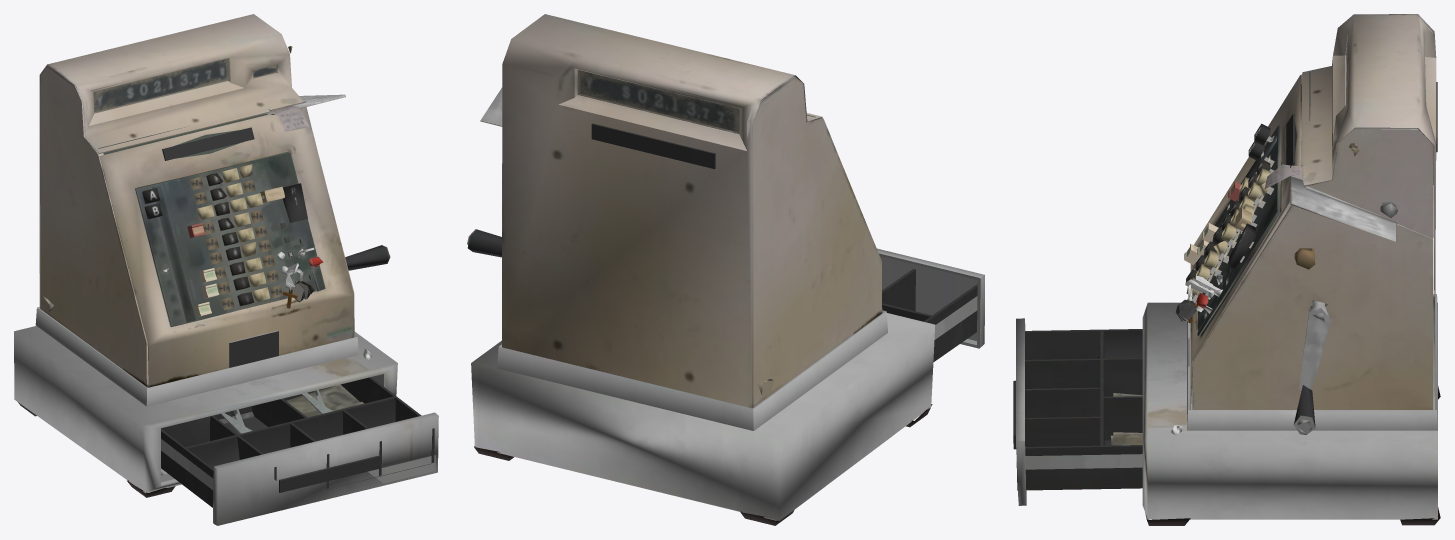
Rendered from cashregister_01.glb.
3 renders of one model, left to right at view 1: azimuth 30°, elevation 25°; view 2: azimuth 150°, elevation 25°; view 3: azimuth 270°, elevation 25°, orthographic. The views are drawn at different scales.
Visible parts, largest first — view 1: CashRegister_01_body, CashRegister_011_drawer; view 2: CashRegister_01_body, CashRegister_011_drawer; view 3: CashRegister_01_body, CashRegister_011_drawer.
Boxes of the visible parts, x1,y1,x2,y2 form: CashRegister_01_body: [14, 14, 397, 497]; CashRegister_011_drawer: [161, 377, 438, 525]; CashRegister_01_body: [467, 14, 935, 525]; CashRegister_011_drawer: [877, 248, 984, 362]; CashRegister_01_body: [1142, 14, 1440, 525]; CashRegister_011_drawer: [1013, 318, 1142, 505].
Bounding box in the file's own units: 0.5941 × 0.6197 × 0.6201.
Materials: 2 (2 with a texture image).
